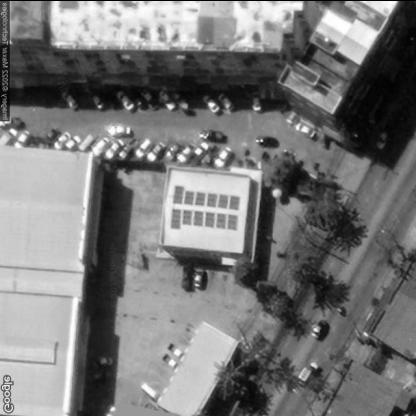solar-pv-panel: (171, 183, 240, 229)
